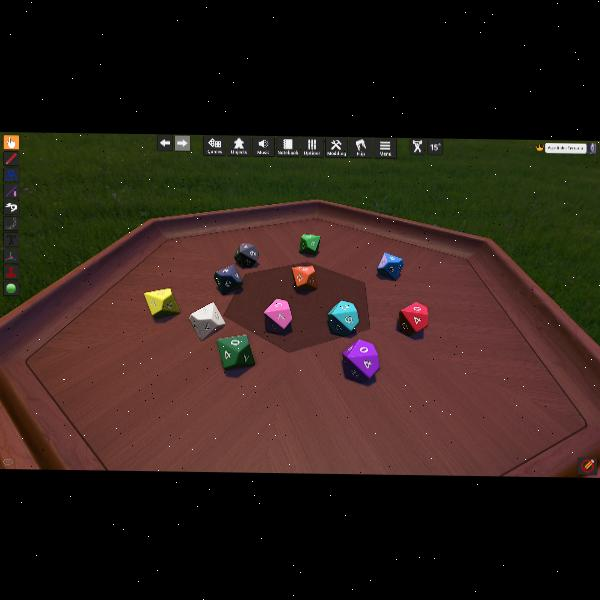d10: (341, 339, 378, 382), (218, 333, 256, 370), (189, 302, 224, 340), (145, 287, 181, 318), (325, 299, 355, 335), (398, 301, 428, 335), (264, 297, 292, 331), (214, 264, 242, 295), (377, 253, 403, 281), (234, 243, 258, 268), (292, 265, 316, 290), (300, 233, 320, 254)
